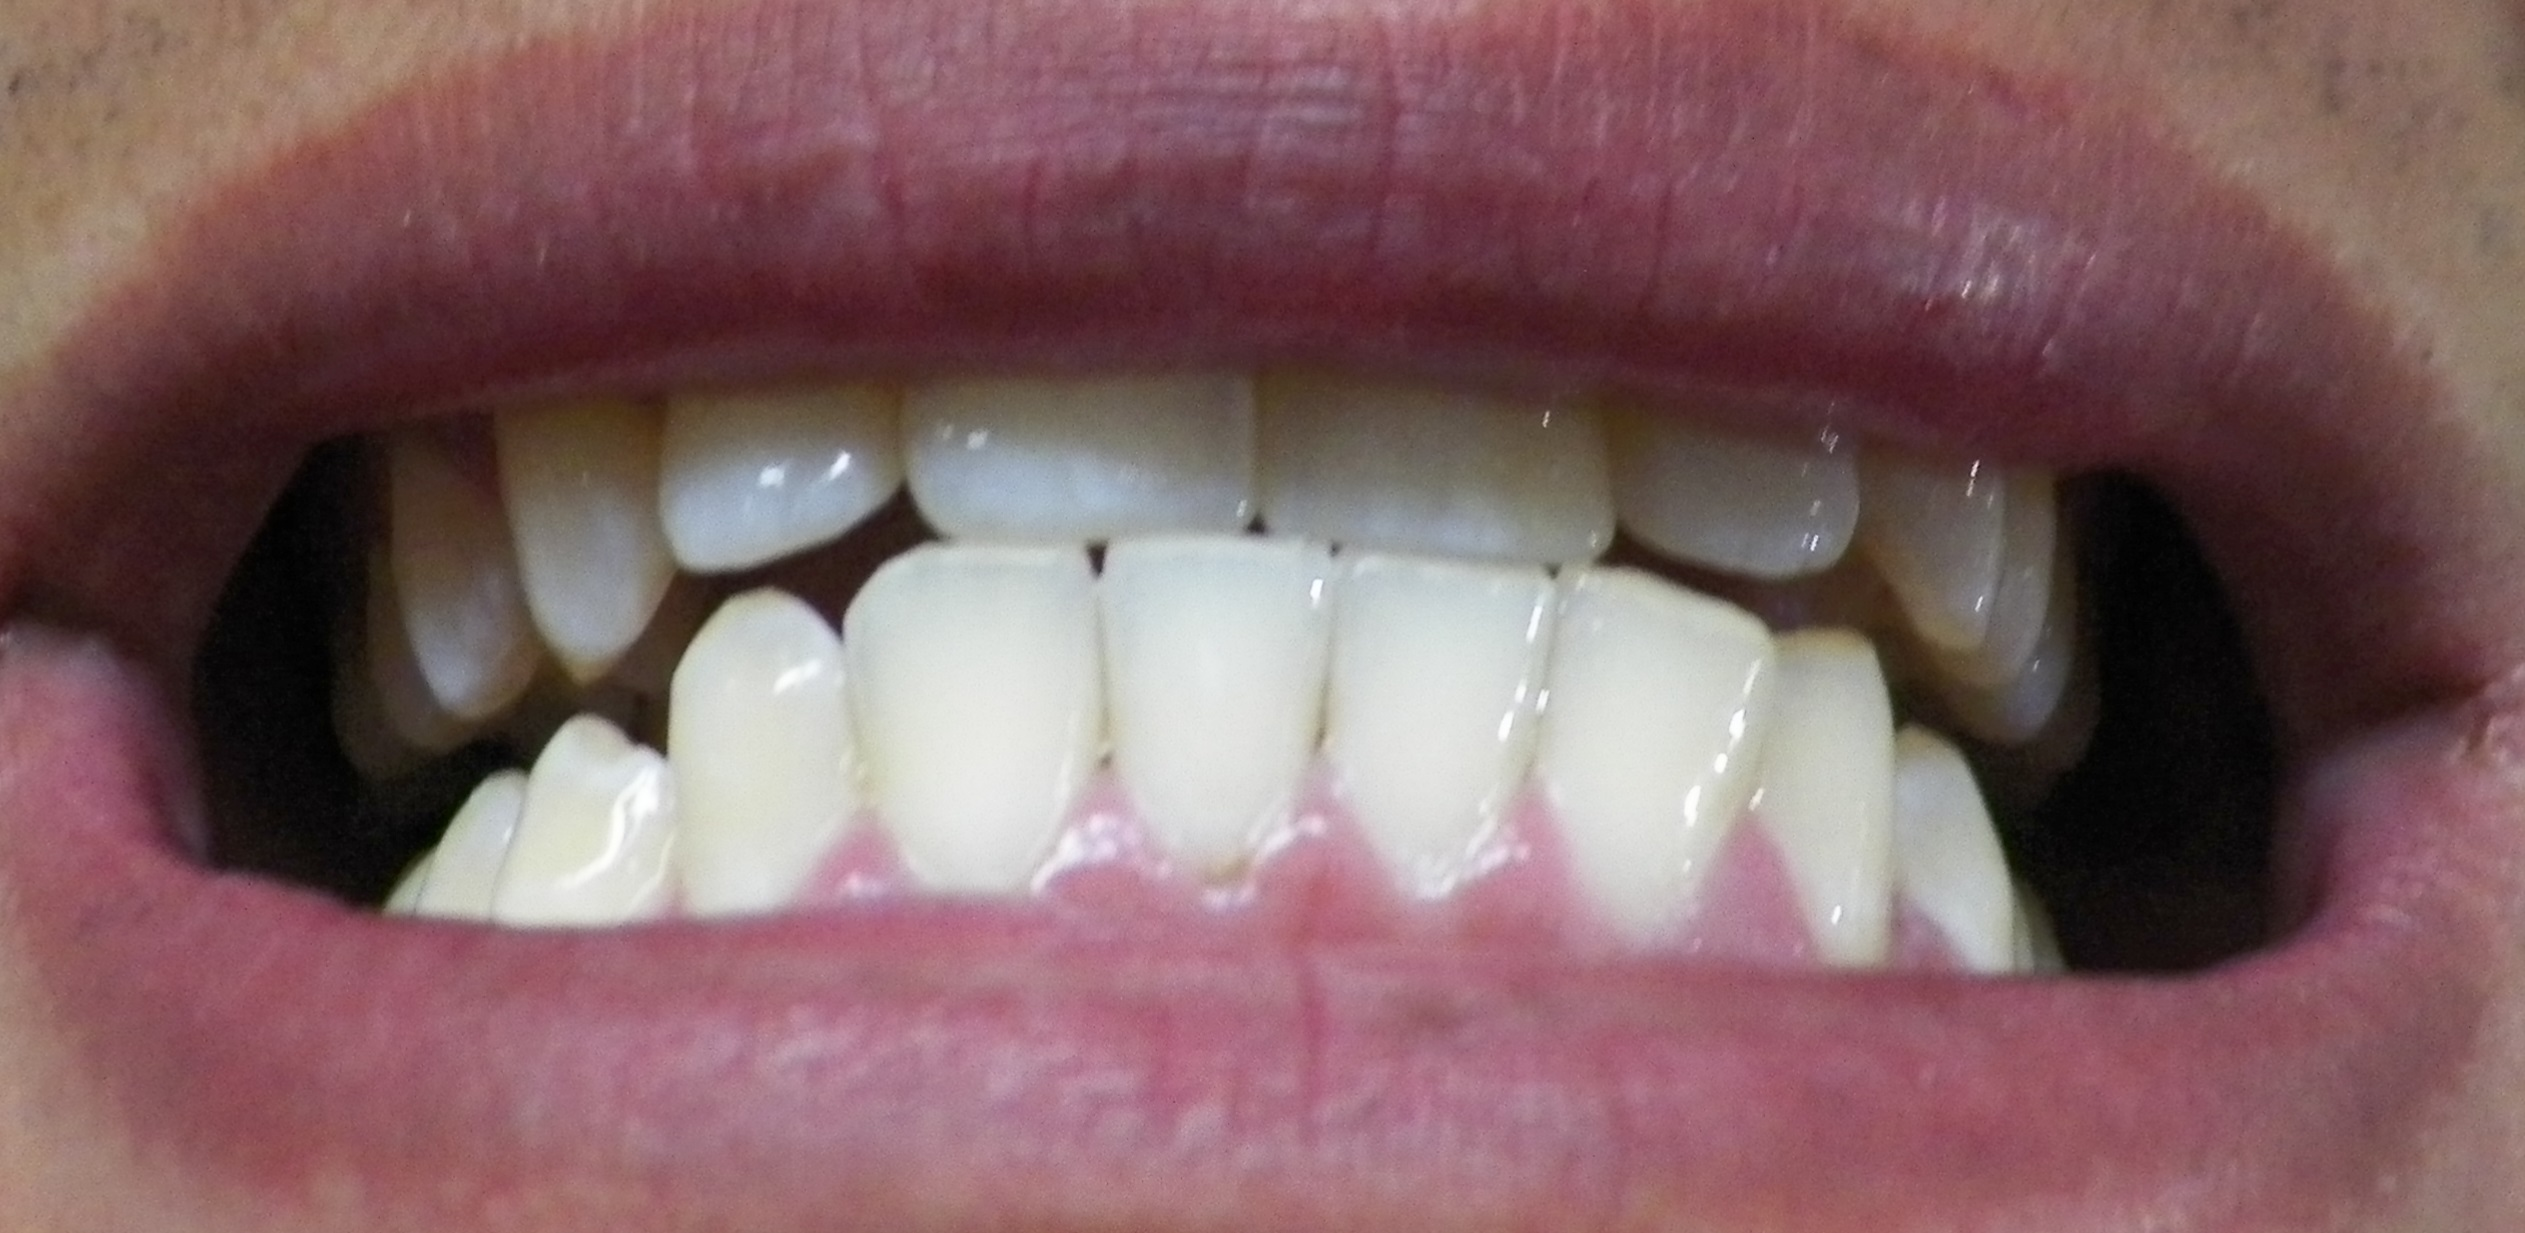boca: (340, 349, 2097, 984)
